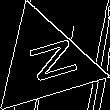N_W: (15, 35, 76, 89)
